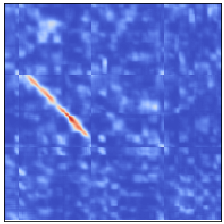action_path: (15, 75, 90, 149)
